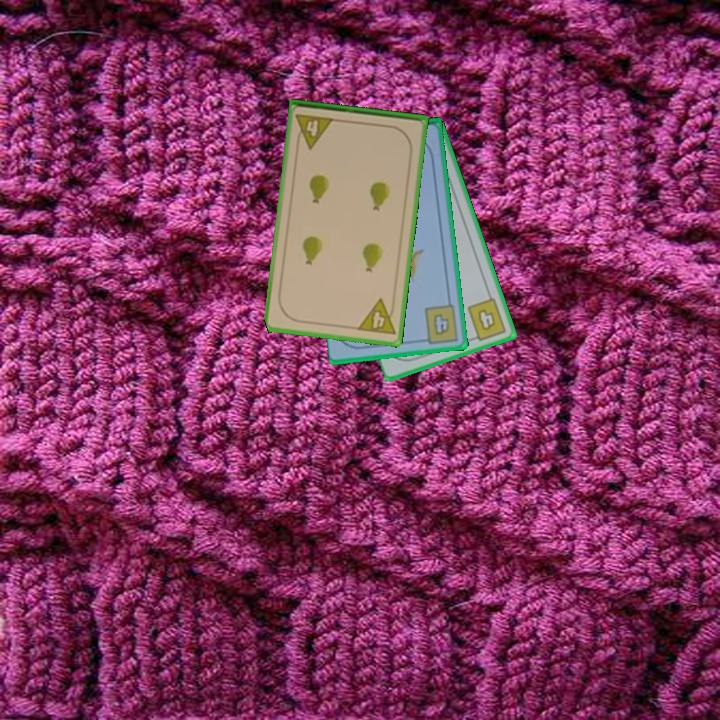4b: (464, 294, 510, 344), (418, 301, 462, 346)
4p: (354, 295, 398, 338), (292, 110, 337, 151)
